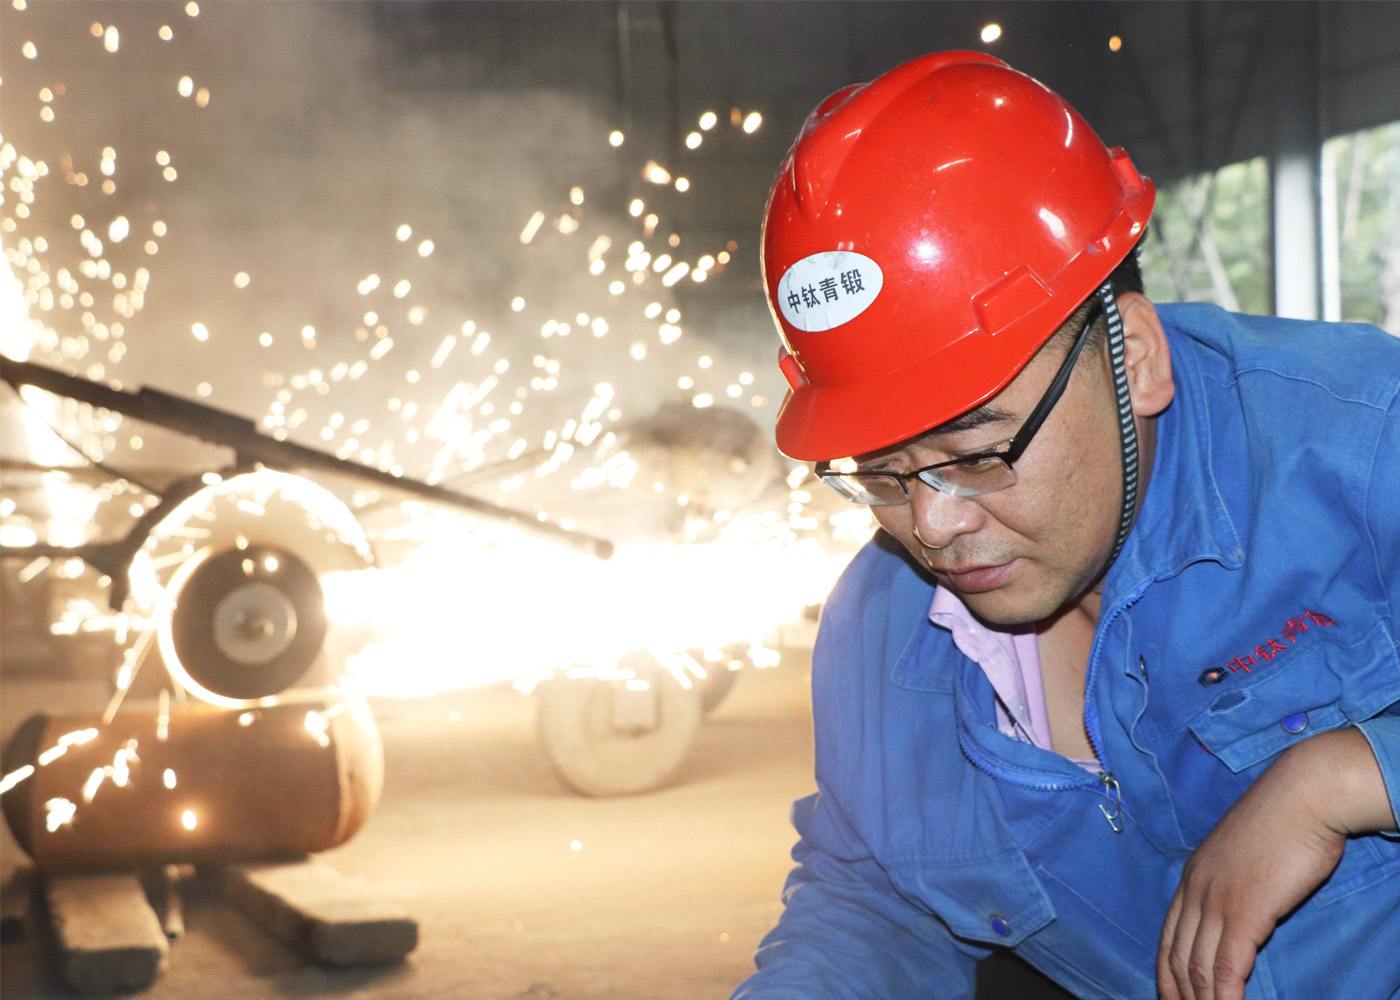safetyhat: (700, 47, 1400, 1000)
